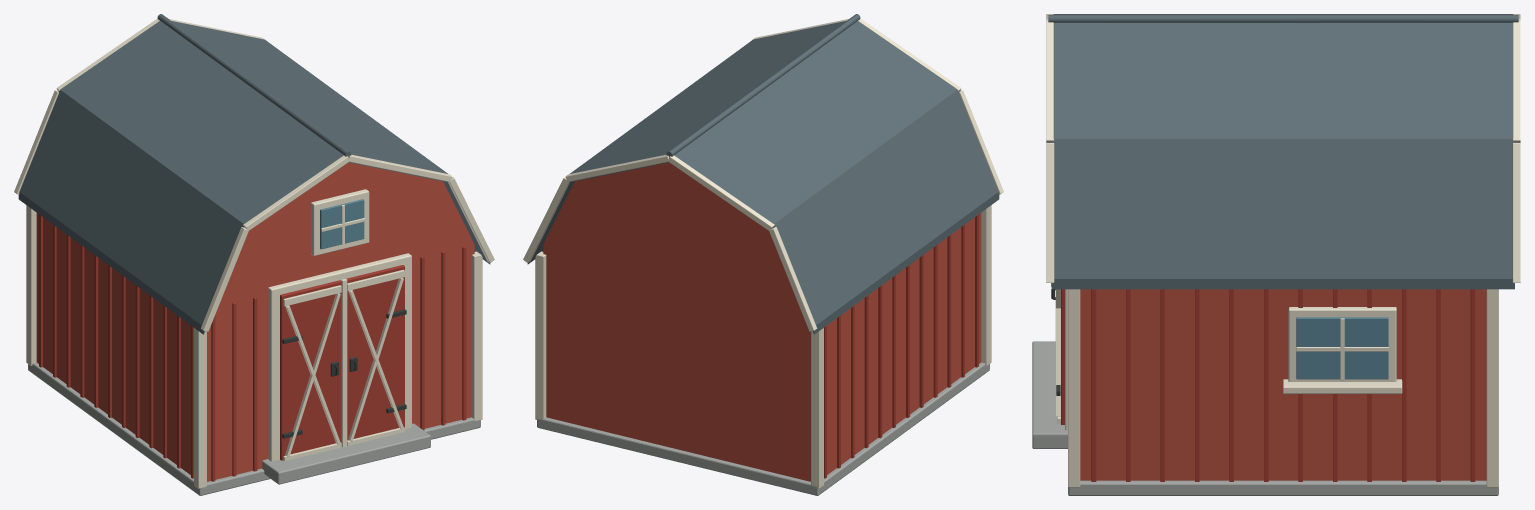
The model's file is shed_gambrel_barn.glb.
3 views of the same model, side by side, from view 1: azimuth 30°, elevation 25°; view 2: azimuth 150°, elevation 25°; view 3: azimuth 270°, elevation 25° (orthographic). The views are drawn at different scales.
Visible parts, largest first — view 1: Barn gambrel wall shell, Gambrel roof slope 2, Gambrel roof slope 1, Gambrel roof slope 3, Barn door leaf, Barn door leaf.001, Double barn door frame, Barn footing, Barn entrance step, Barn corner board, Barn corner board.002, Barn corner board.001 (+30 smaller); view 2: Barn gambrel wall shell, Gambrel roof slope 2, Gambrel roof slope 1, Gambrel roof slope 3, Barn footing, Barn corner board.001, Barn corner board.003, Barn corner board, Barn roof ridge cap, Gambrel fascia.005, Gambrel fascia.004, Gambrel fascia.006 (+13 smaller); view 3: Gambrel roof slope 4, Barn gambrel wall shell, Gambrel roof slope 3, Barn footing, Barn side window glass, Barn roof ridge cap, Barn entrance step, Barn side window trim, Barn corner board.002, Barn corner board.003, Barn side window sill, Gambrel fascia.003 (+17 smaller).
Boxes of the visible parts, box(x1,y1,x2,y2) form: Barn gambrel wall shell: box(36, 162, 474, 481); Gambrel roof slope 2: box(60, 21, 343, 223); Gambrel roof slope 1: box(18, 90, 244, 334); Gambrel roof slope 3: box(172, 21, 447, 182); Barn door leaf: box(280, 280, 341, 460); Barn door leaf.001: box(346, 265, 404, 440); Double barn door frame: box(268, 253, 411, 461); Barn footing: box(28, 362, 480, 495); Barn entrance step: box(262, 423, 430, 484); Barn corner board: box(194, 328, 206, 488); Barn corner board.002: box(471, 251, 482, 420); Barn corner board.001: box(26, 205, 36, 365); Barn gambrel wall shell: box(543, 162, 981, 481); Gambrel roof slope 2: box(674, 21, 957, 223); Gambrel roof slope 1: box(773, 90, 999, 334); Gambrel roof slope 3: box(570, 21, 845, 182); Barn footing: box(537, 362, 989, 495); Barn corner board.001: box(811, 328, 823, 488); Barn corner board.003: box(535, 251, 546, 419); Barn corner board: box(981, 205, 991, 365); Barn roof ridge cap: box(666, 14, 860, 157); Gambrel fascia.005: box(668, 155, 774, 230); Gambrel fascia.004: box(769, 227, 817, 331); Gambrel fascia.006: box(565, 154, 668, 181); Gambrel roof slope 4: box(1052, 139, 1514, 289); Barn gambrel wall shell: box(1080, 289, 1486, 480); Gambrel roof slope 3: box(1053, 22, 1513, 138); Barn footing: box(1068, 480, 1498, 495); Barn side window glass: box(1296, 317, 1388, 379); Barn roof ridge cap: box(1048, 15, 1518, 22); Barn entrance step: box(1032, 341, 1067, 448); Barn side window trim: box(1288, 307, 1396, 381); Barn corner board.002: box(1068, 289, 1080, 487); Barn corner board.003: box(1486, 289, 1498, 487); Barn side window sill: box(1283, 379, 1402, 393); Gambrel fascia.003: box(1046, 143, 1054, 282).
Bounding box in the file's own units: 3.47 × 3.54 × 3.97.
